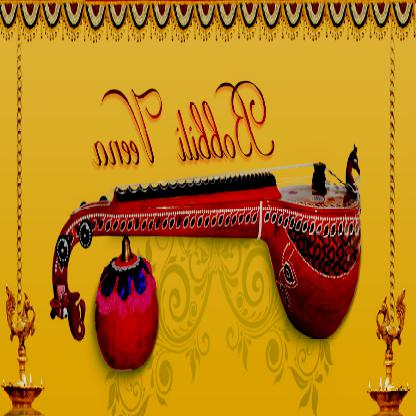Veena: (38, 152, 372, 263)
